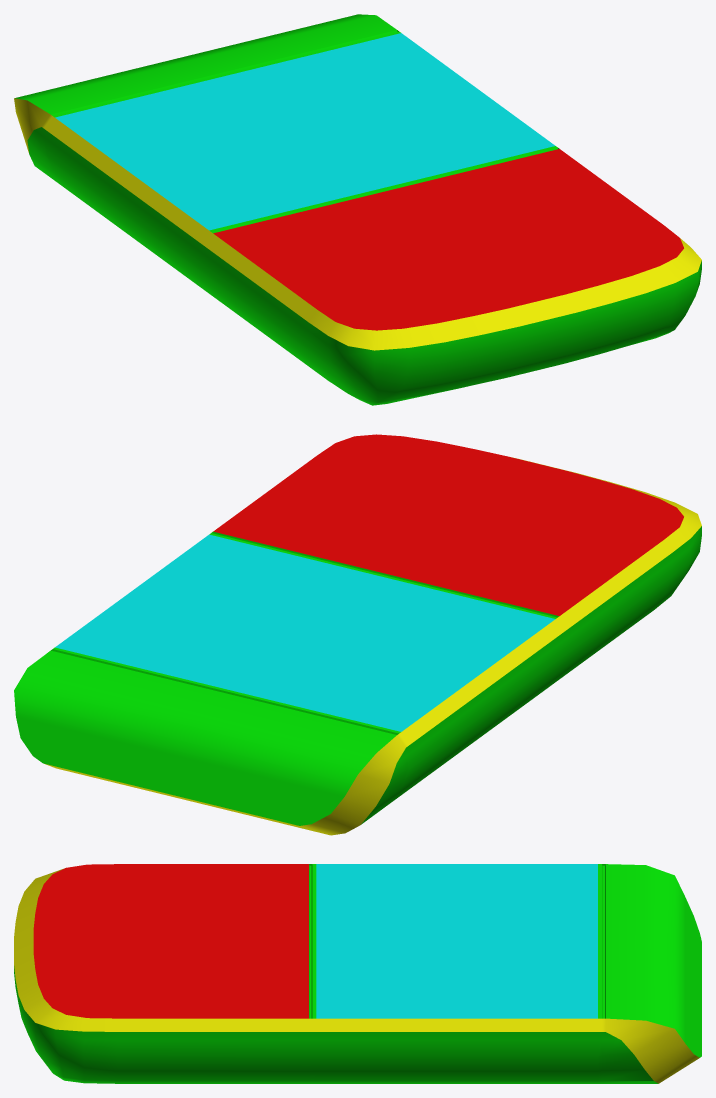
The model's file is RoboTHOR_cellphones_grp.fbx.
3 renders of one model, top to bottom at view 1: azimuth 30°, elevation 25°; view 2: azimuth 150°, elevation 25°; view 3: azimuth 270°, elevation 25°, orthographic. The views are drawn at different scales.
Visible parts, largest first — view 1: robothor_cellphone_blackberry; view 2: robothor_cellphone_blackberry; view 3: robothor_cellphone_blackberry.
Part boxes in pixels (box(x1,y1,x2,y2)): robothor_cellphone_blackberry: box(14, 14, 701, 405); robothor_cellphone_blackberry: box(14, 434, 701, 835); robothor_cellphone_blackberry: box(14, 864, 701, 1083).
Size of the model in its own units: 6.18 by 1.41 by 11.07.
